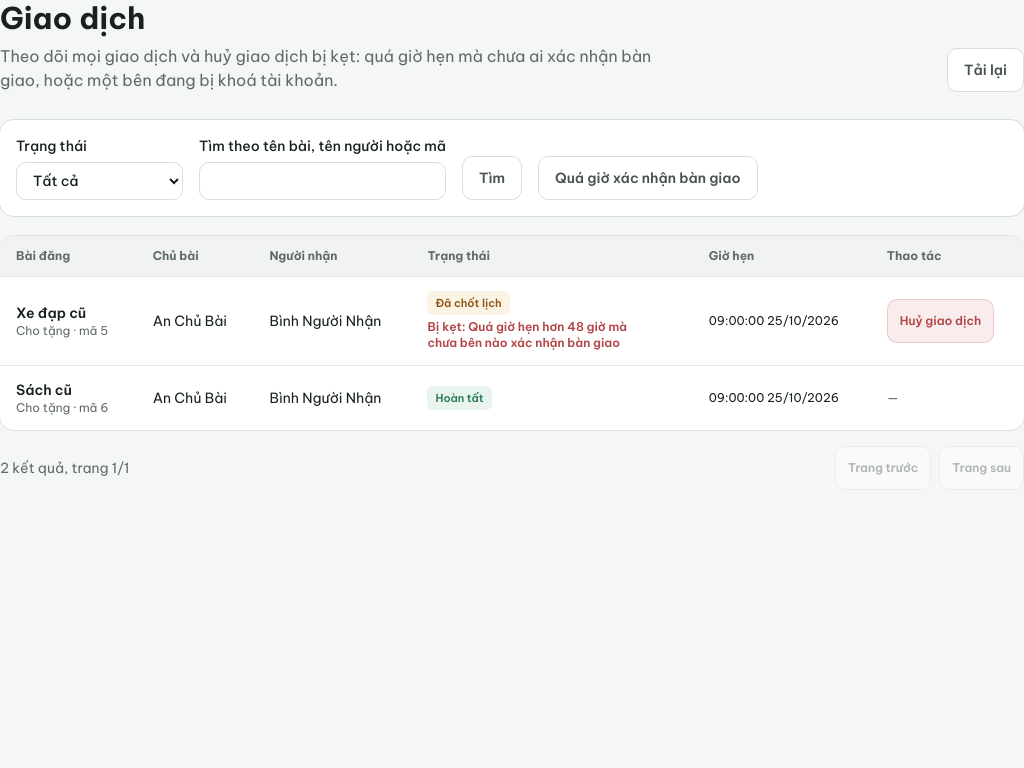
Test: AdminTransactions › huỷ giao dịch cần lý do tối thiểu 5 ký tự rồi gọi API và tải lại danh sách
Expected: the text "Xe đạp cũ" is shown, x1=16 y1=304 x2=86 y2=322
Click the button "Huỷ giao dịch". click: (940, 321)
box: x1=887 y1=299 x2=994 y2=343
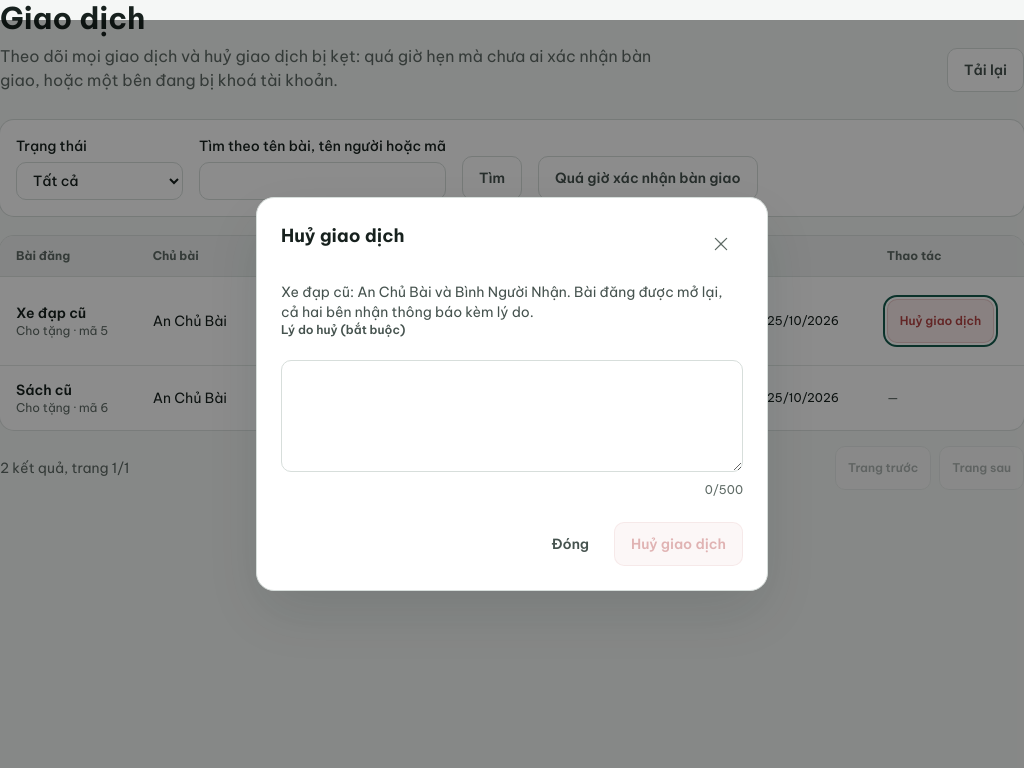
Expected: the button "Huỷ giao dịch" is disabled, x1=614 y1=522 x2=743 y2=566
Type "Hai bên không liên lạc được" into the text box labelled "Lý do huỷ (bắt buộc)". click: (512, 416)
box: x1=281 y1=360 x2=743 y2=472
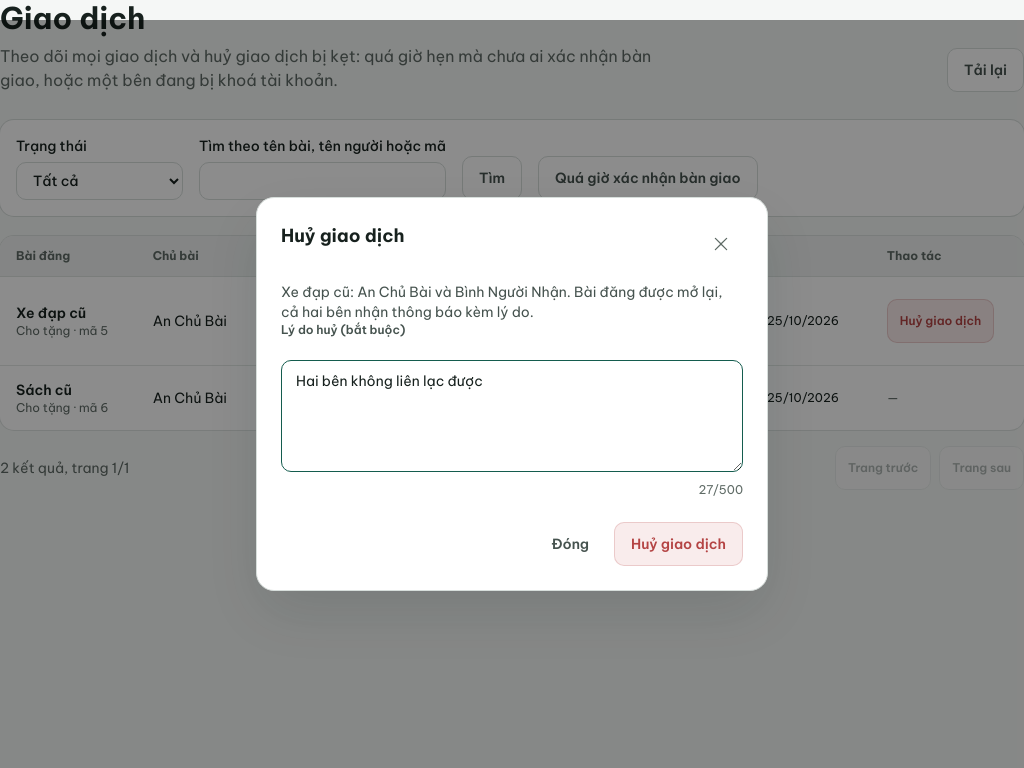
Click the button "Huỷ giao dịch". click: (678, 544)
box: x1=614 y1=522 x2=743 y2=566
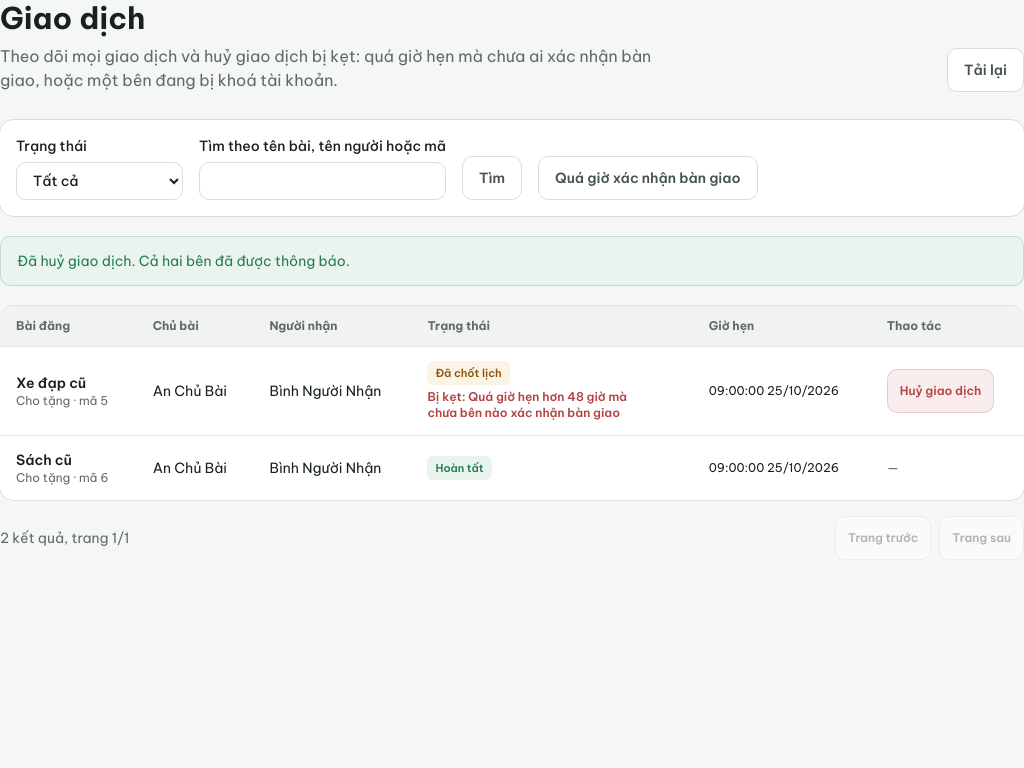
Expected: the text "Đã huỷ giao dịch. Cả hai bên đã được thông báo." is shown, x1=0 y1=236 x2=1023 y2=286
